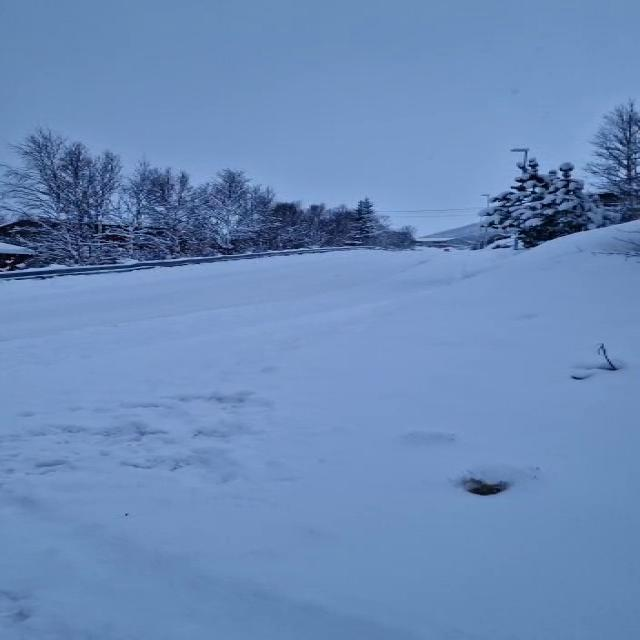path: (0, 243, 482, 350)
